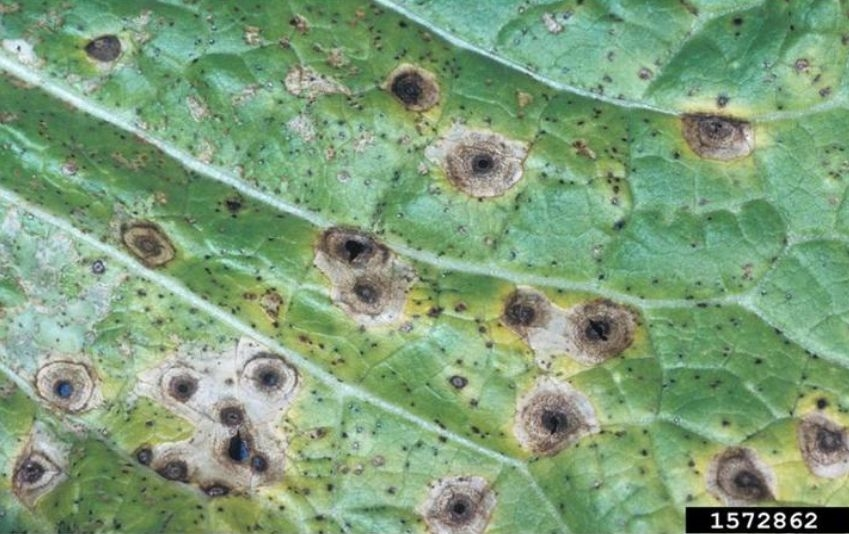Cabbage_AlteriaLeafSpot: (253, 23, 792, 470)
